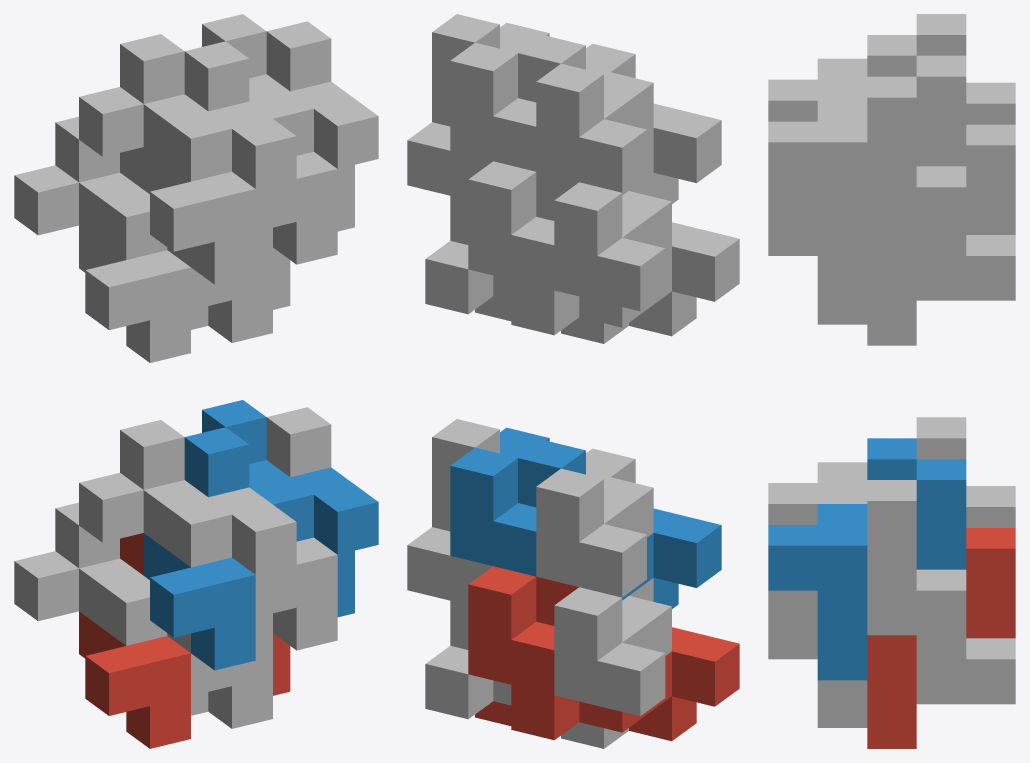
File: tiling.obj
The picture shows the model from 3 angles, left to right: view 1: azimuth 30°, elevation 25°; view 2: azimuth 150°, elevation 25°; view 3: azimuth 270°, elevation 25°; orthographic projection. The views are drawn at different scales.
Visible parts, largest first — view 1: copy_2_domain_4, copy_2_domain_2, copy_1_domain_4, copy_1_domain_2, copy_2_domain_1, copy_2_domain_3, copy_1_domain_3, copy_1_domain_1, copy_2_domain_8, copy_2_domain_6, copy_1_domain_8, copy_1_domain_6 (+4 smaller); view 2: copy_2_domain_1, copy_2_domain_3, copy_2_domain_4, copy_2_domain_2, copy_1_domain_3, copy_1_domain_1, copy_2_domain_6, copy_2_domain_8, copy_2_domain_7, copy_2_domain_5, copy_1_domain_2, copy_1_domain_4 (+4 smaller); view 3: copy_2_domain_8, copy_2_domain_6, copy_1_domain_6, copy_1_domain_8, copy_2_domain_5, copy_2_domain_7, copy_1_domain_5, copy_1_domain_7, copy_2_domain_4, copy_2_domain_2, copy_2_domain_3, copy_1_domain_2 (+2 smaller).
Part boxes in pixels (x1,y1,x2,y2): copy_2_domain_4: (79, 34, 296, 251); copy_2_domain_2: (79, 420, 296, 637); copy_1_domain_4: (143, 41, 255, 284); copy_1_domain_2: (143, 427, 255, 670); copy_2_domain_1: (14, 502, 208, 715); copy_2_domain_3: (14, 116, 208, 329); copy_1_domain_3: (79, 147, 190, 362); copy_1_domain_1: (79, 533, 190, 748); copy_2_domain_8: (202, 14, 378, 231); copy_2_domain_6: (202, 400, 378, 617); copy_1_domain_8: (255, 21, 337, 264); copy_1_domain_6: (255, 407, 337, 650); copy_2_domain_1: (554, 578, 671, 748); copy_2_domain_3: (554, 173, 671, 343); copy_2_domain_4: (536, 43, 653, 192); copy_2_domain_2: (536, 448, 653, 597); copy_1_domain_3: (511, 172, 739, 336); copy_1_domain_1: (511, 577, 739, 741); copy_2_domain_6: (450, 427, 549, 576); copy_2_domain_8: (450, 22, 549, 171); copy_2_domain_7: (468, 161, 554, 321); copy_2_domain_5: (468, 566, 554, 725); copy_1_domain_2: (518, 440, 721, 608); copy_1_domain_4: (518, 35, 721, 203); copy_2_domain_8: (768, 55, 966, 276); copy_2_domain_6: (768, 459, 966, 680); copy_1_domain_6: (768, 480, 966, 659); copy_1_domain_8: (768, 76, 966, 255); copy_2_domain_5: (867, 528, 1015, 748); copy_2_domain_7: (867, 124, 1015, 345); copy_1_domain_5: (817, 635, 1015, 727); copy_1_domain_7: (817, 232, 1015, 324); copy_2_domain_4: (768, 14, 966, 121); copy_2_domain_2: (768, 417, 966, 524); copy_2_domain_3: (966, 82, 1015, 124); copy_1_domain_2: (867, 438, 916, 479).
Size of the model in its own units: 6 by 15 by 5.
